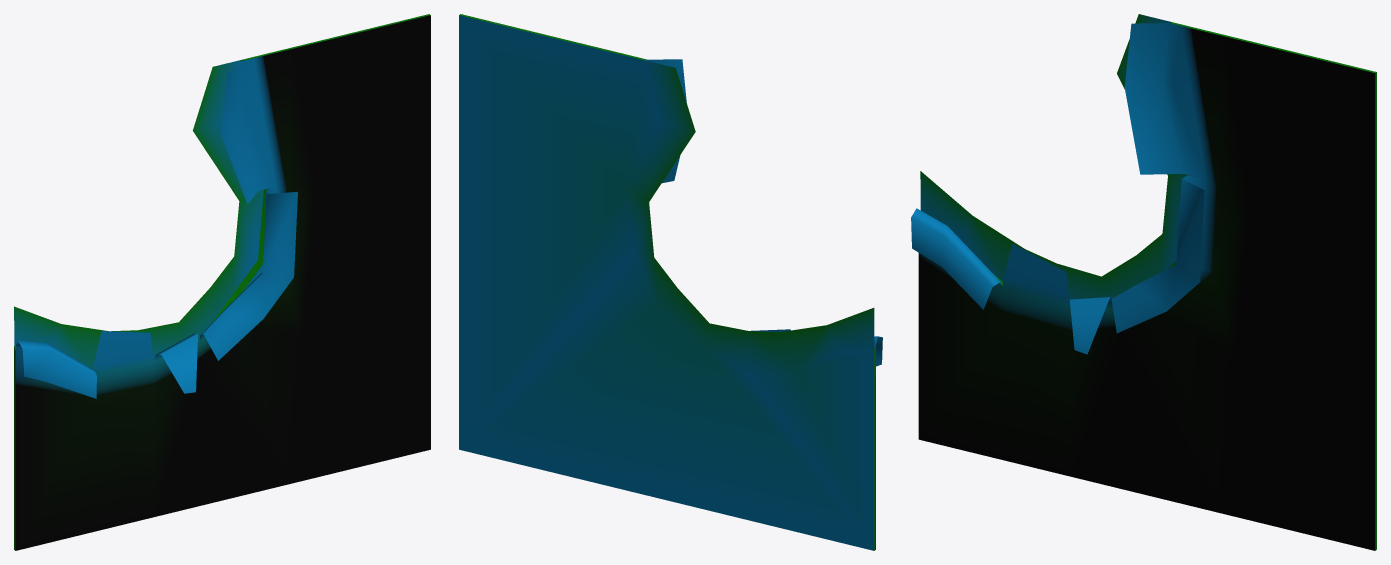
Rendered from DBK_Drywall_90_A_Single_Mirror.fbx.
3 views of the same model, side by side, from view 1: azimuth 30°, elevation 25°; view 2: azimuth 150°, elevation 25°; view 3: azimuth 330°, elevation 25° (orthographic). The views are drawn at different scales.
Parts seen in each view (by area): view 1: DBK_Drywall_90_A_Single_Mirror; view 2: DBK_Drywall_90_A_Single_Mirror; view 3: DBK_Drywall_90_A_Single_Mirror.
Part boxes in pixels (x1,y1,x2,y2): DBK_Drywall_90_A_Single_Mirror: [14, 14, 430, 550]; DBK_Drywall_90_A_Single_Mirror: [459, 14, 882, 550]; DBK_Drywall_90_A_Single_Mirror: [911, 14, 1376, 550].
Size of what is drawn, in the model's own units: 300 by 300 by 21.01.
